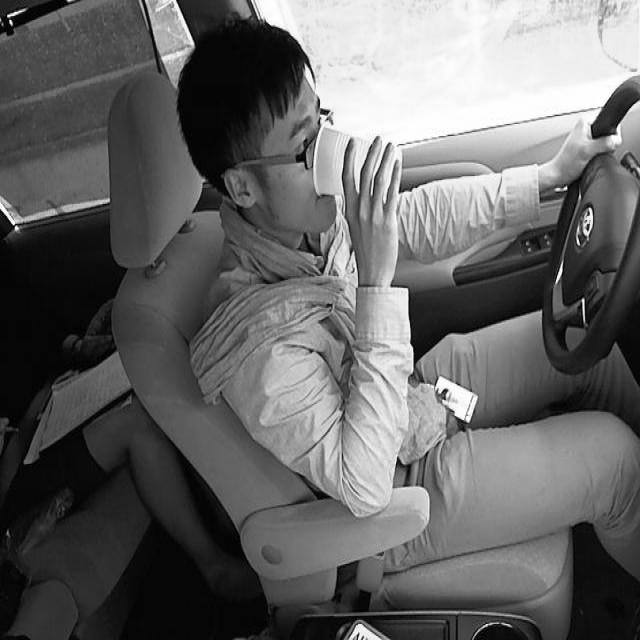Drinking: (314, 125, 405, 203)
